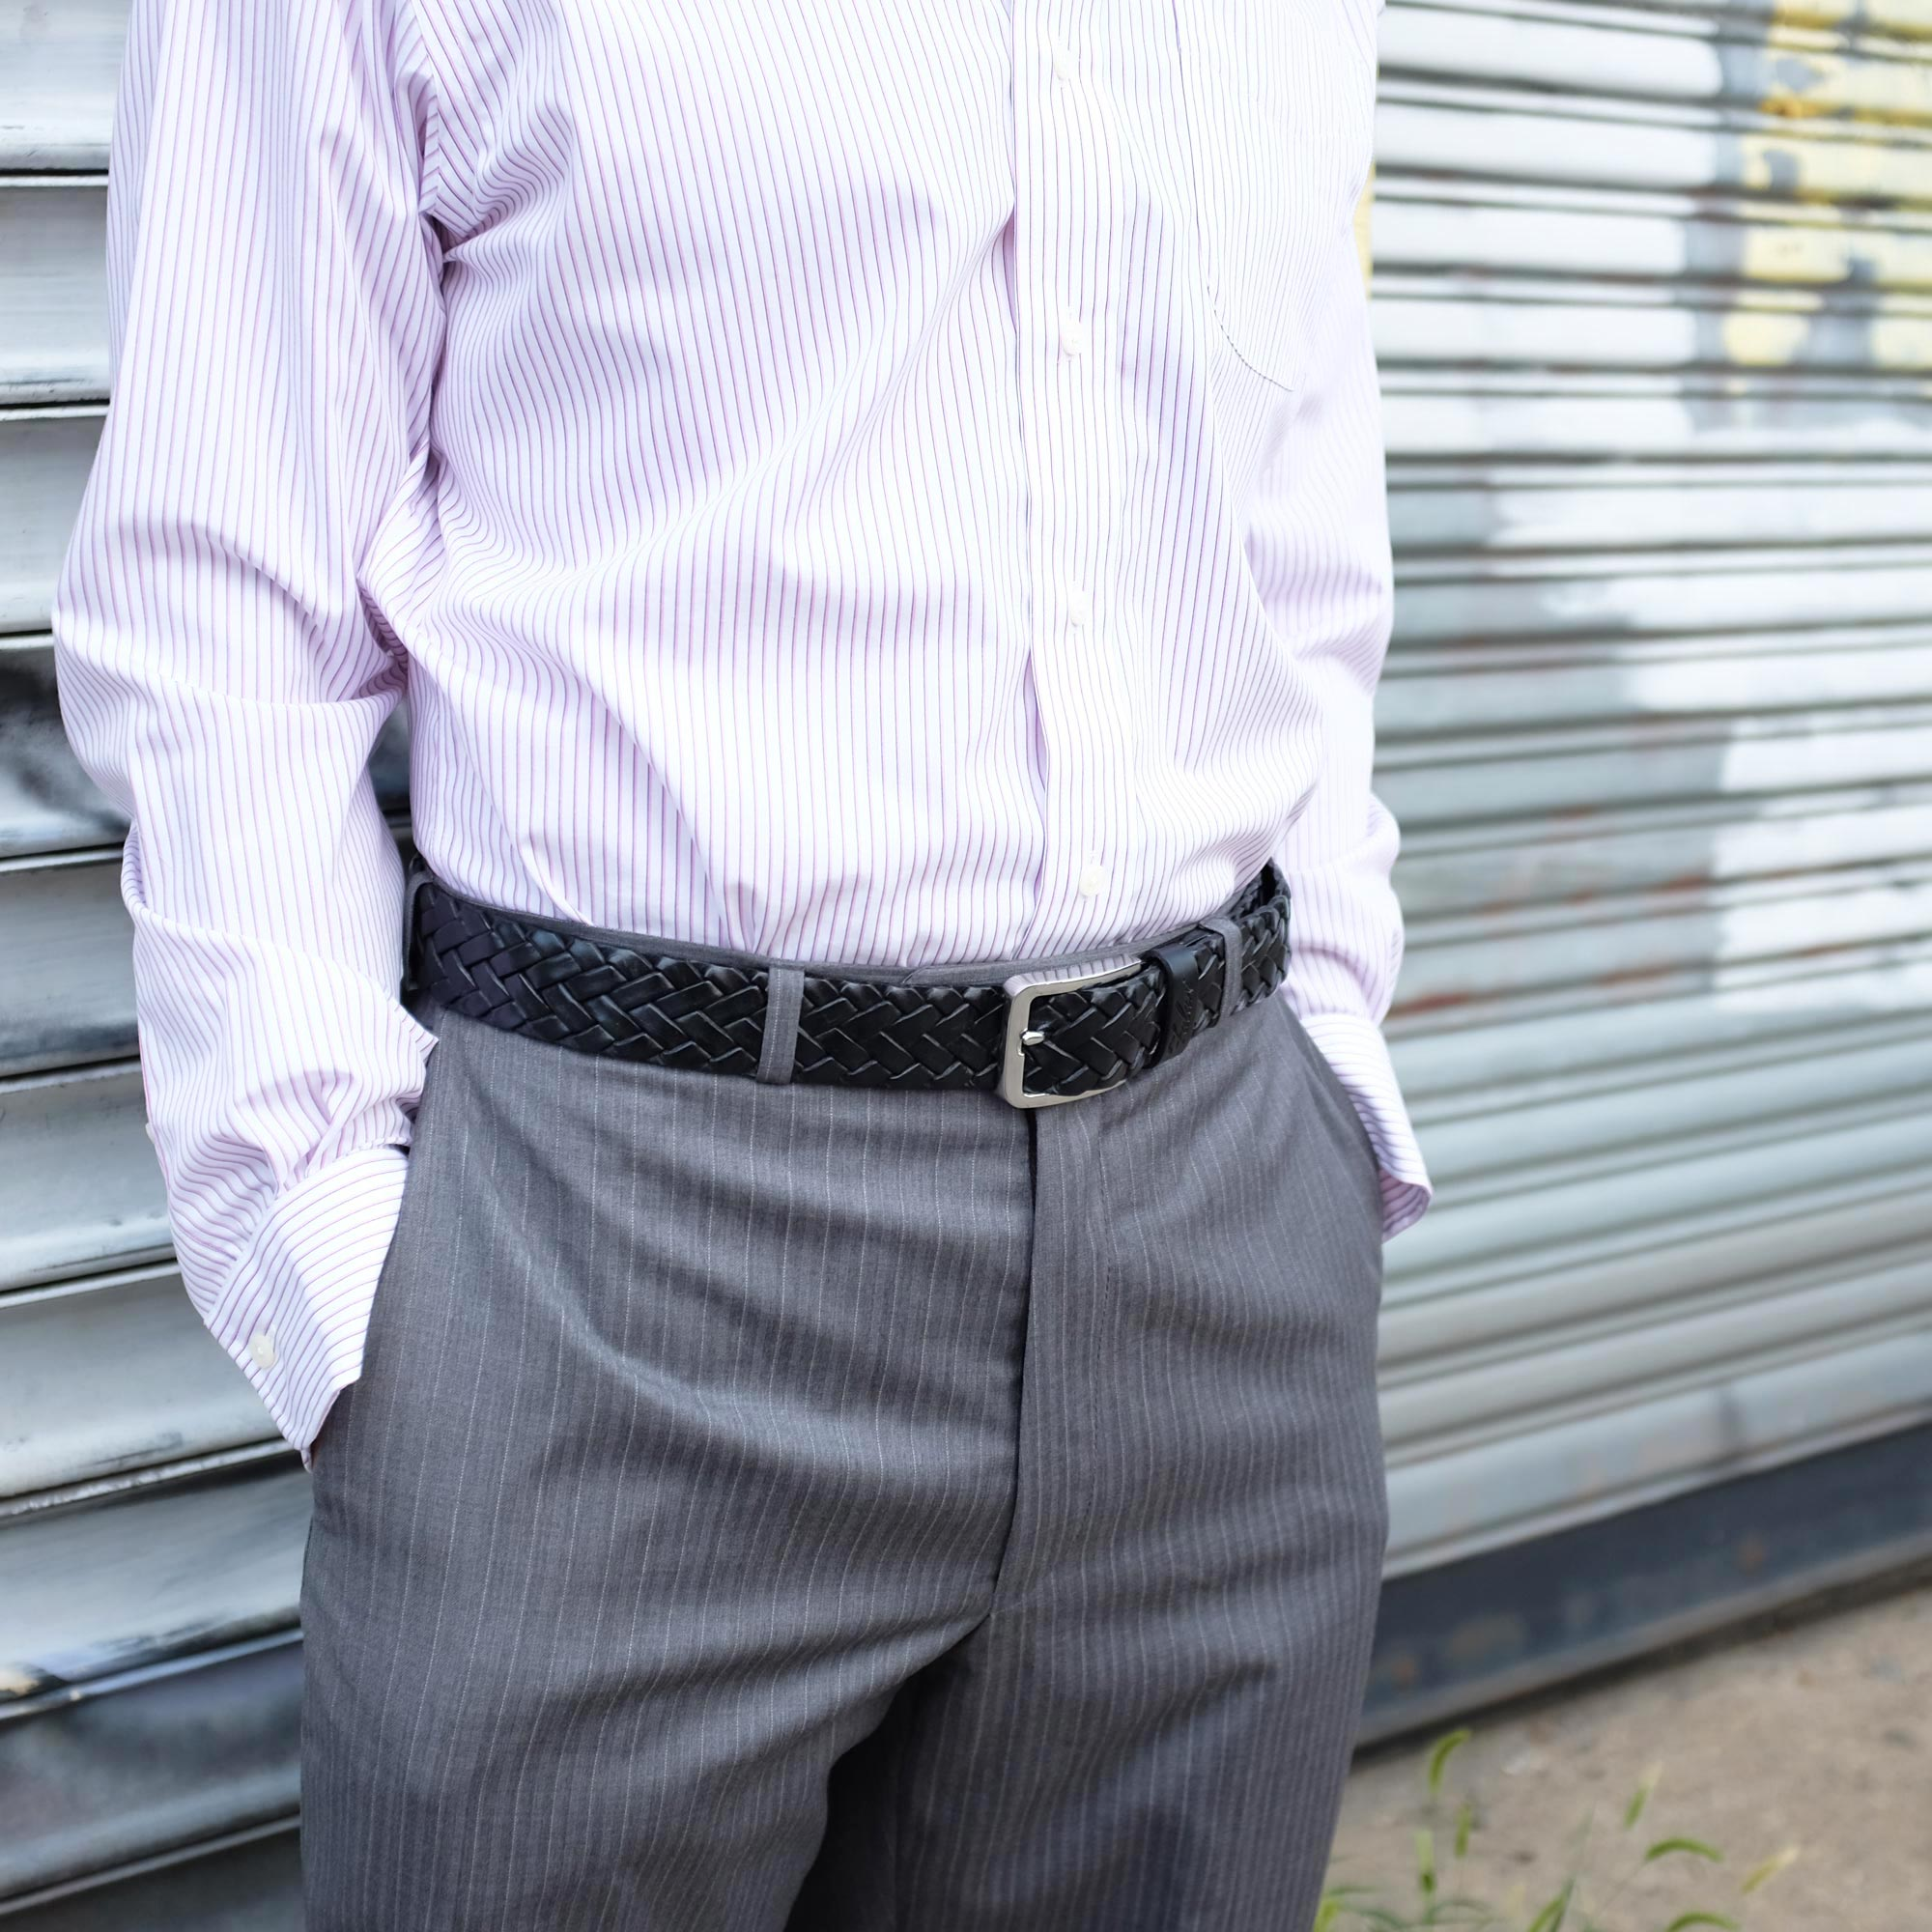F_belt: (375, 879, 1318, 1070)
F_dress pants: (278, 1111, 1412, 1888)
F_shirt: (69, 2, 1403, 1456)
